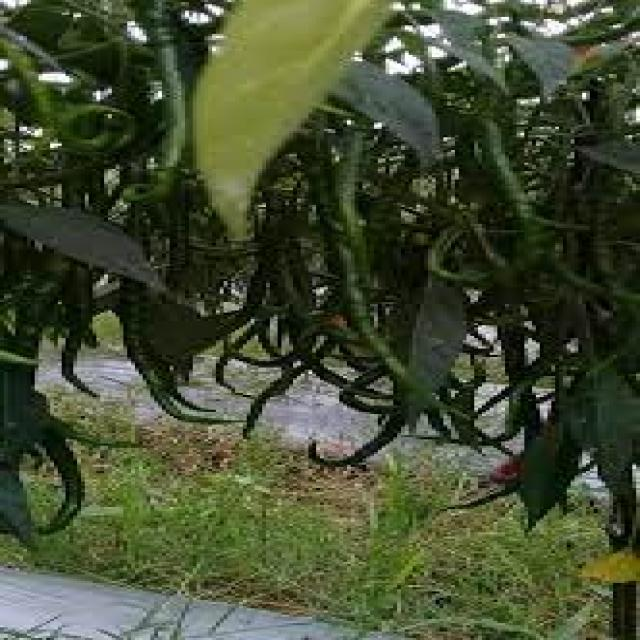sehat: (0, 173, 185, 292), (368, 280, 492, 397), (332, 61, 462, 170)
